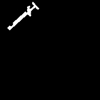double_crochet: (8, 3, 38, 29)
